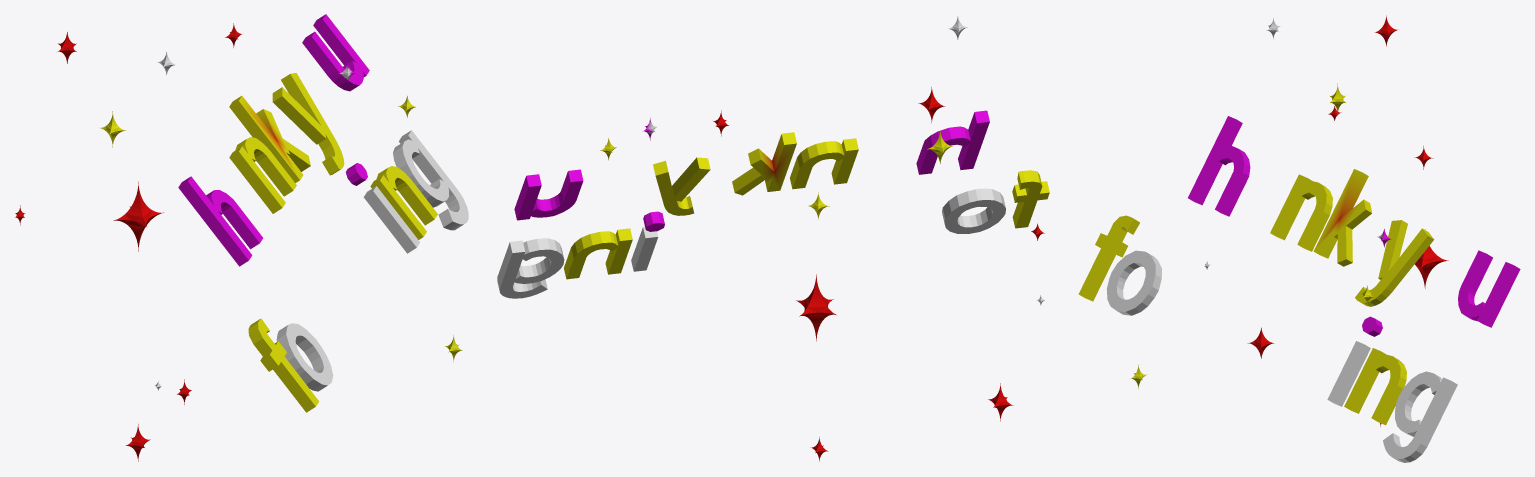
Rendered from thank_you_x.obj.
3 views of the same model, side by side, from view 1: azimuth 30°, elevation 25°; view 2: azimuth 150°, elevation 25°; view 3: azimuth 270°, elevation 25° (orthographic). The views are drawn at different scales.
Visible parts, largest first — view 1: XMesh ZMesh, XMesh, XMesh YMesh, XMesh YMesh ZMesh; view 2: XMesh ZMesh, XMesh, XMesh YMesh, XMesh YMesh ZMesh; view 3: XMesh ZMesh, XMesh, XMesh YMesh, XMesh YMesh ZMesh.
Boxes of the visible parts, box(x1,y1,x2,y2) form: XMesh ZMesh: box(100, 73, 462, 412); XMesh: box(154, 52, 468, 391); XMesh YMesh: box(178, 14, 369, 266); XMesh YMesh ZMesh: box(15, 23, 241, 461); XMesh ZMesh: box(564, 131, 1049, 279); XMesh: box(497, 16, 1044, 305); XMesh YMesh: box(514, 110, 989, 231); XMesh YMesh ZMesh: box(713, 87, 1044, 461); XMesh ZMesh: box(1078, 83, 1434, 425); XMesh: box(1106, 18, 1457, 462); XMesh YMesh: box(1188, 116, 1520, 336); XMesh YMesh ZMesh: box(1247, 15, 1448, 426).
Bounding box in the file's own units: 9.03 × 7.29 × 7.73.
